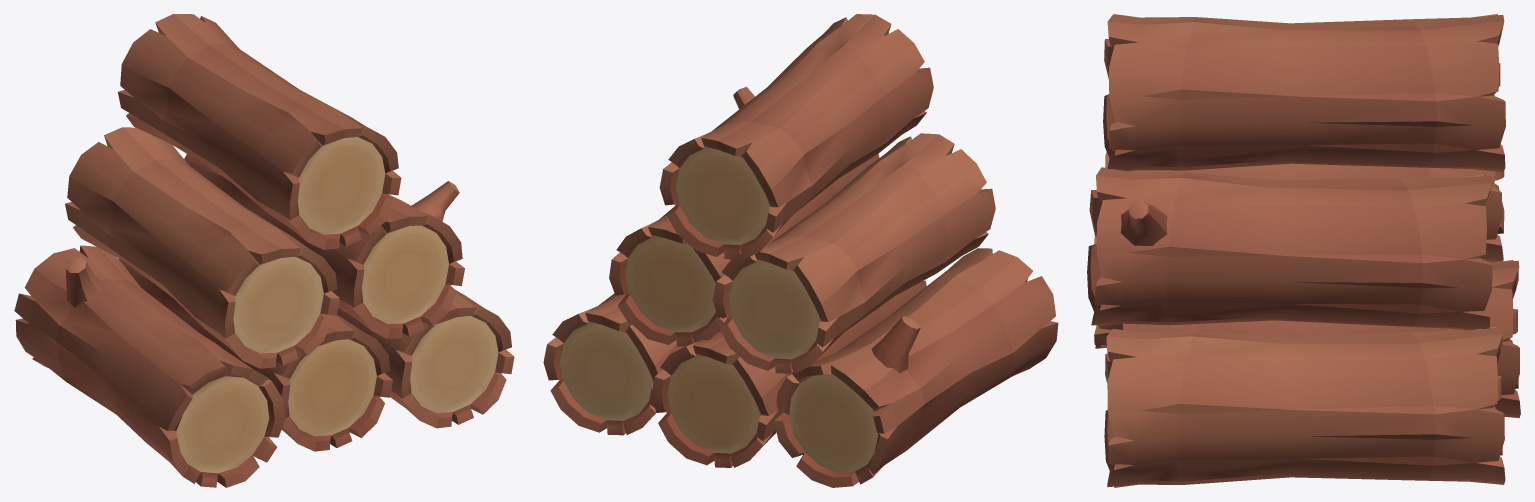
The model's file is wood_log_stack.glb.
3 renders of one model, left to right at view 1: azimuth 30°, elevation 25°; view 2: azimuth 150°, elevation 25°; view 3: azimuth 270°, elevation 25°, orthographic. The views are drawn at different scales.
Visible parts, largest first — view 1: Wood_Log_Stack; view 2: Wood_Log_Stack; view 3: Wood_Log_Stack.
Boxes of the visible parts, bbox=[...] form: Wood_Log_Stack: bbox=[14, 14, 514, 487]; Wood_Log_Stack: bbox=[543, 14, 1058, 487]; Wood_Log_Stack: bbox=[1087, 14, 1520, 487].
Size of the model in its own units: 1.01 by 0.899 by 0.9.
1 material, 1 textured.
